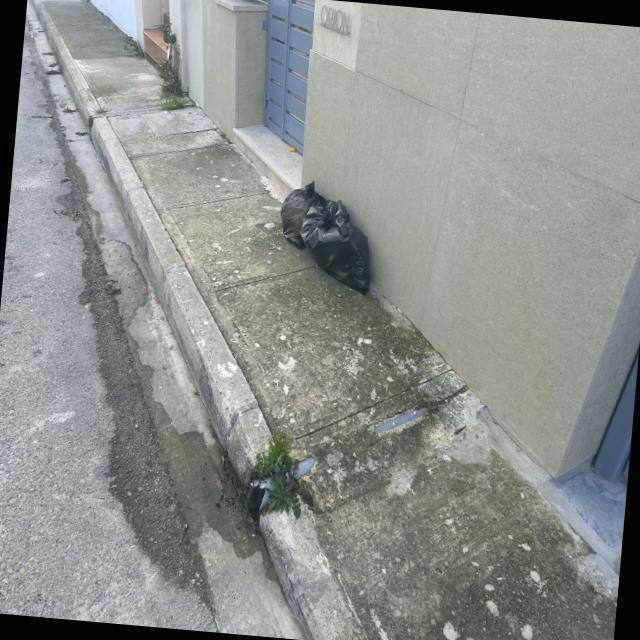black_bag: (303, 195, 380, 299), (276, 177, 326, 248)
